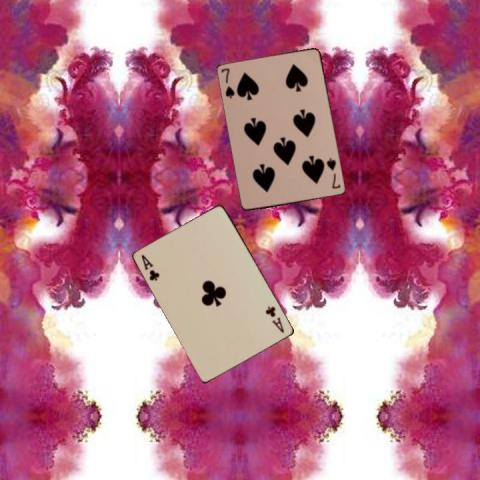7s: (324, 155, 342, 190), (219, 65, 236, 100)
Ac: (263, 303, 286, 334), (139, 251, 161, 282)
